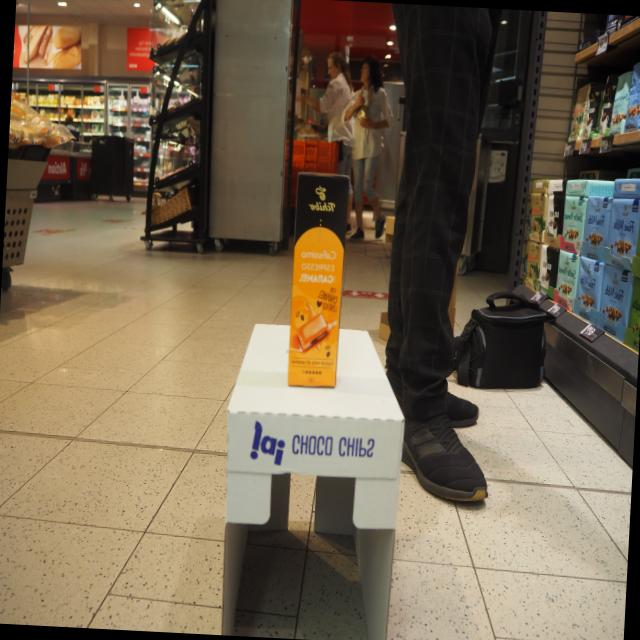Simo Es Caramel: (286, 171, 351, 390)
